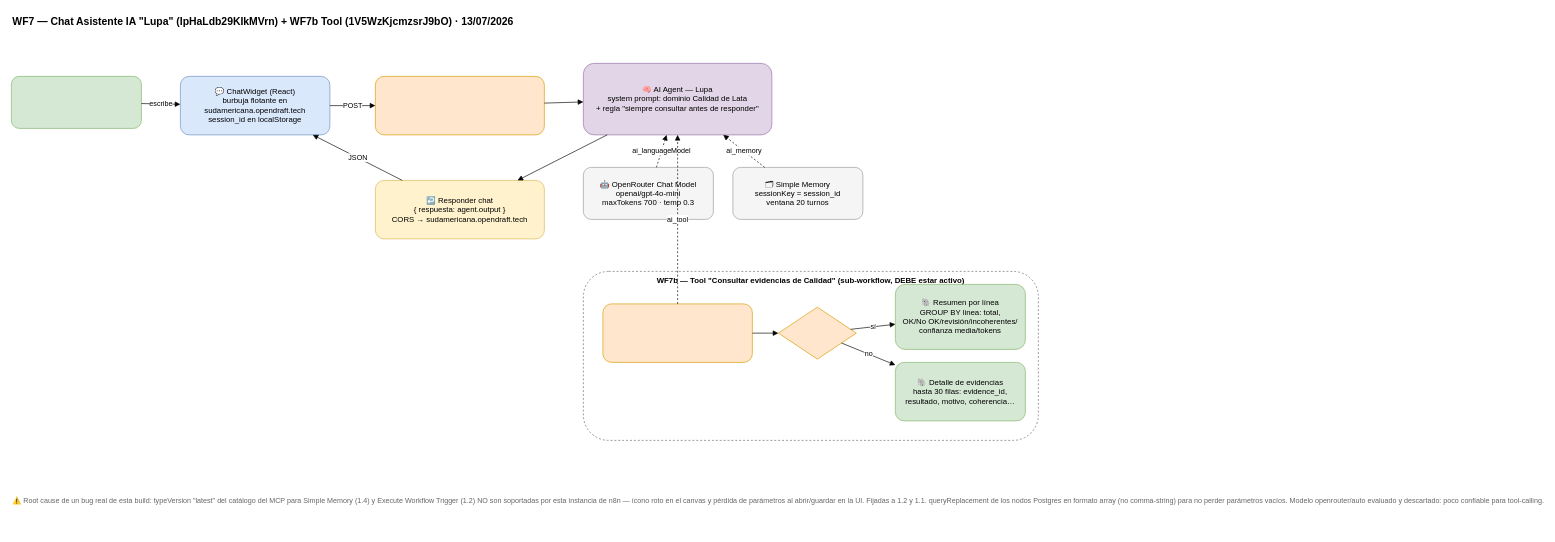
Some shapes in this 1555 by 542 pixel diagram are drawn without their labels. The centre of each missing label's shape, as x and y in pixels:
¿modo = 'resumen'?: point (817, 332)
⚙️ Entrada de la tool modo · dias_atras · linea · resultado (parámetros $fromAI): point (677, 332)
🌐 Webhook POST /webhook/dashboard-calidad-chat { session_id, mensaje }: point (459, 105)
🧑 Usuario del dashboard (analista, supervisor…): point (76, 102)
